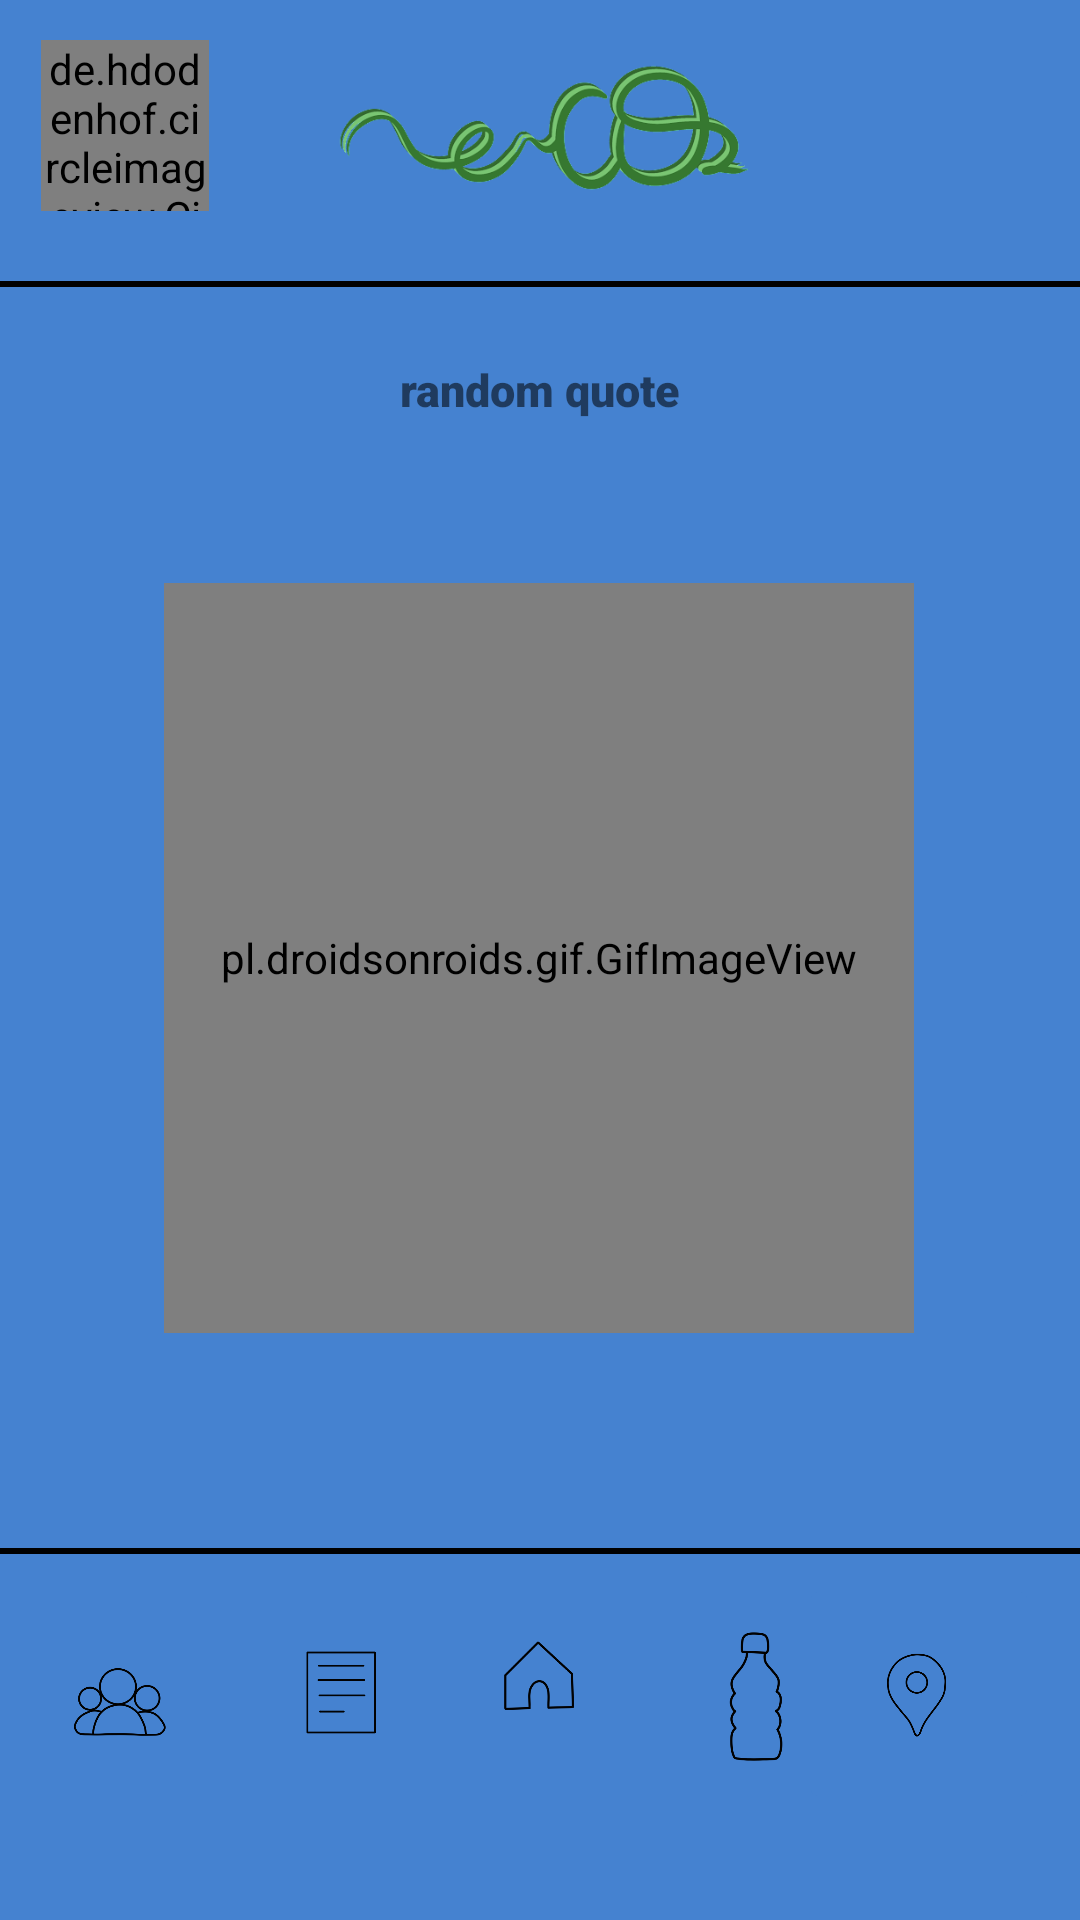

Icon click points for this 1080px×1920px phone screenshot, format (x=x, y=y):
home: (x=539, y=1675)
news: (x=341, y=1692)
